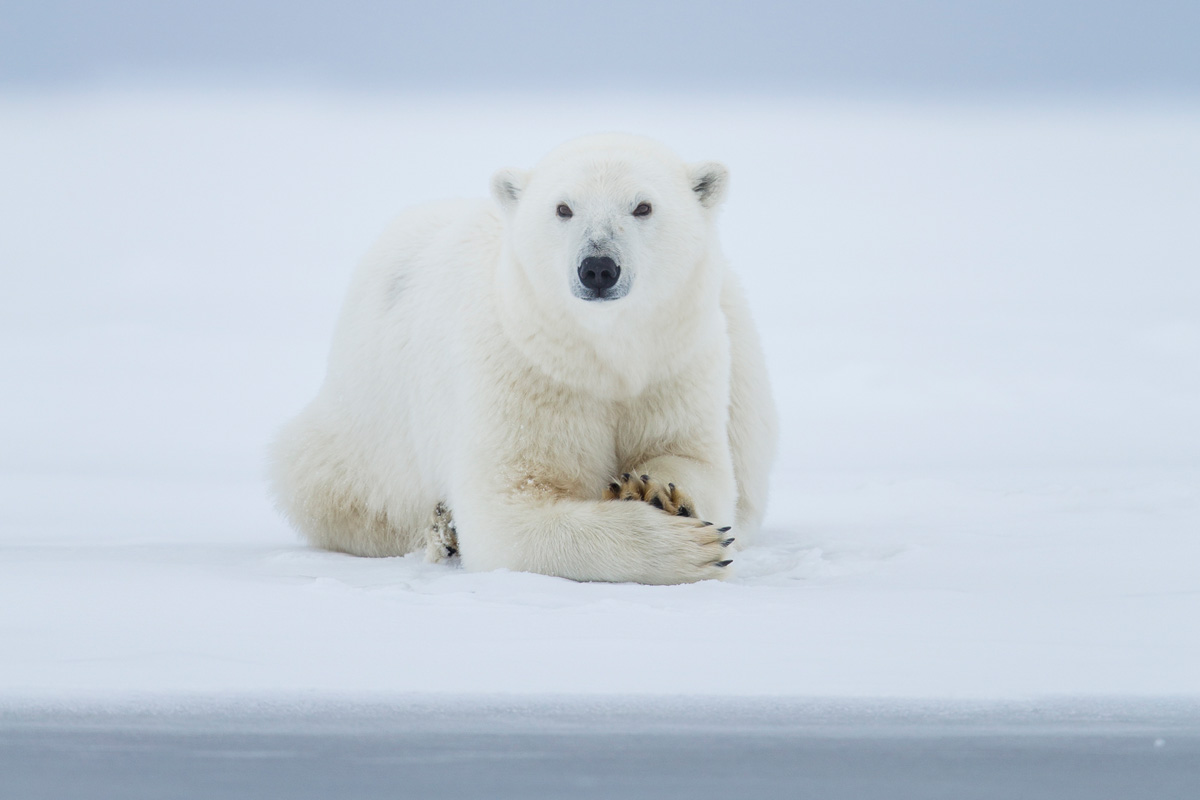Polar Bear: (260, 102, 829, 609)
